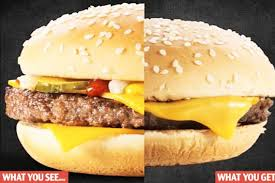hamburger: (12, 1, 270, 168)
